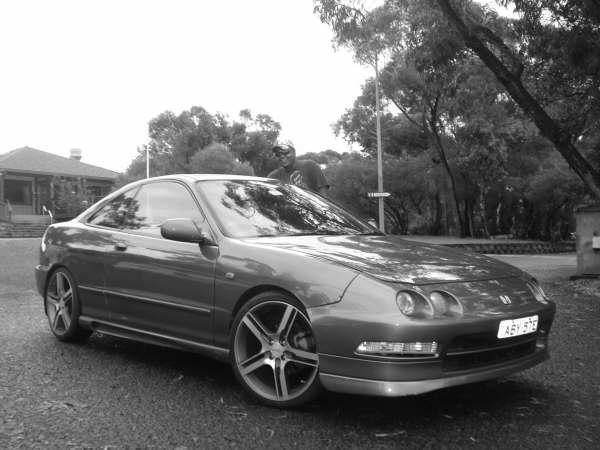car: (37, 172, 559, 412)
